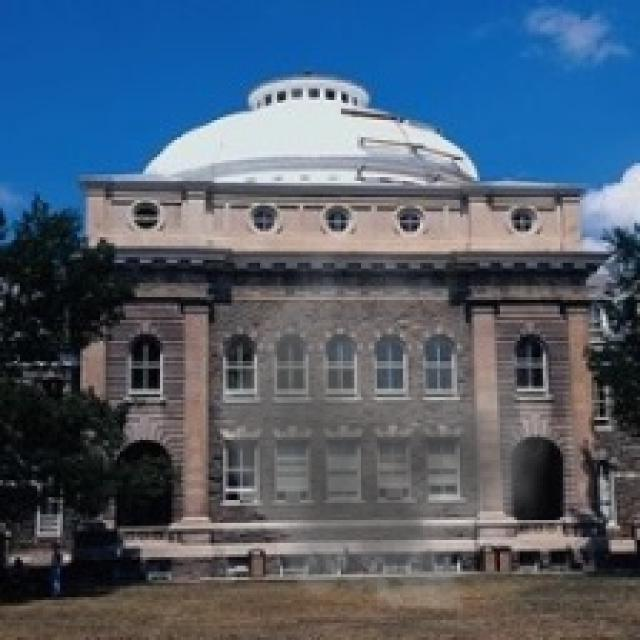smoke: (197, 234, 552, 632)
